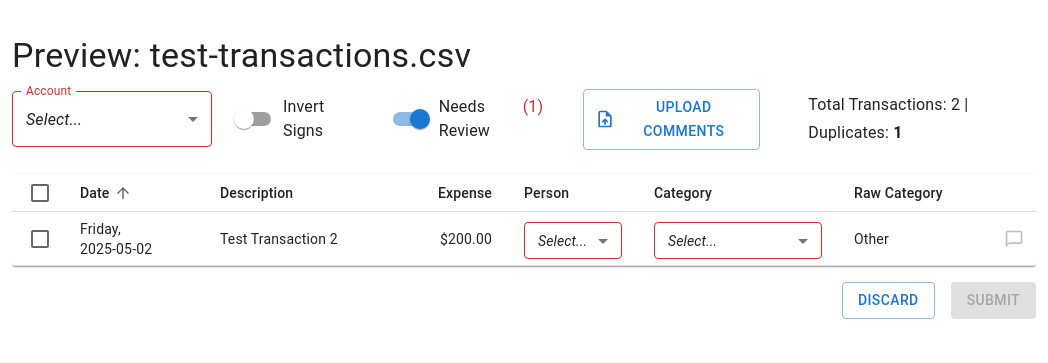
Test: PreviewPage › filters rows based on Needs Review toggle
Expected: the text "Test Transaction 2" is shown, [204,212,396,266]
Expected: the text "Test Transaction 1" is not shown
Note: Toggle off
Click the switch labelled "Needs Review (1)". click: (462, 120)
box: [381,96,543,144]
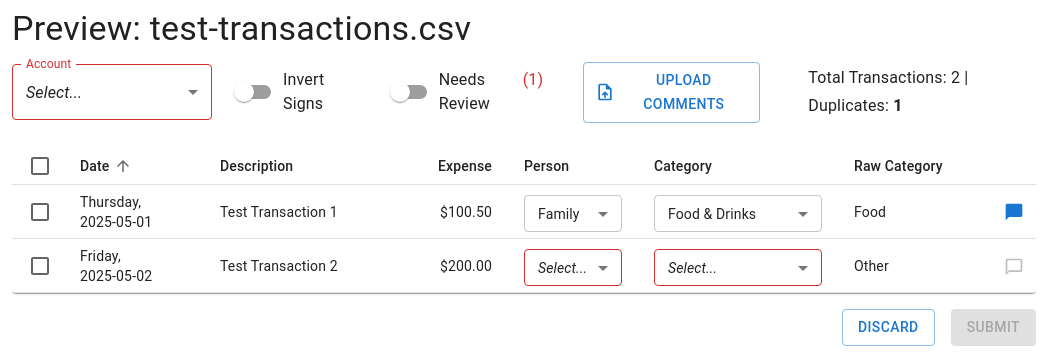
Expected: the text "Test Transaction 2" is shown, [204,239,396,293]
Result: the switch labelled "Needs Review (1)" is not checked at [381,68,543,116]
Result: the text "Test Transaction 1" is shown at [204,185,396,239]
